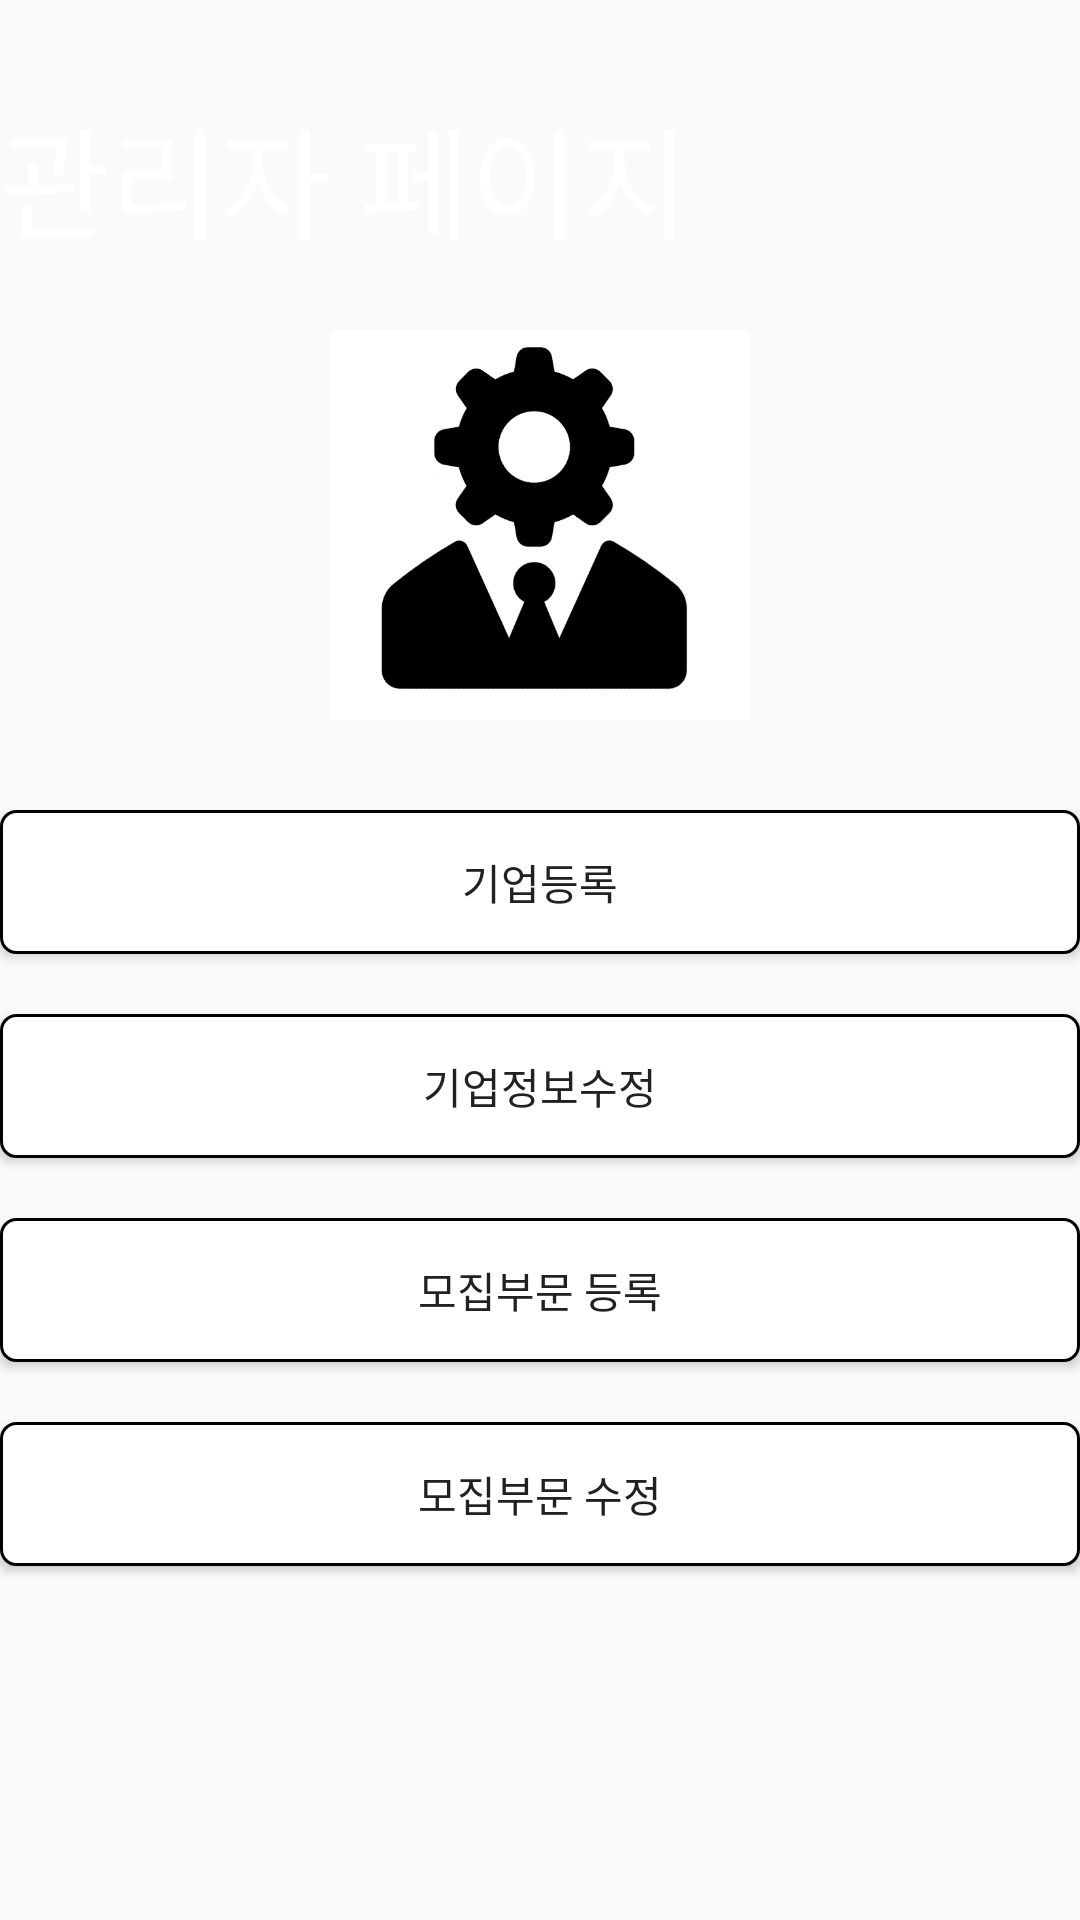

Where icons sit on this 1080*1920 app screen, as (x1, y1, x2, y2):
administrater: (381, 347, 687, 689)
